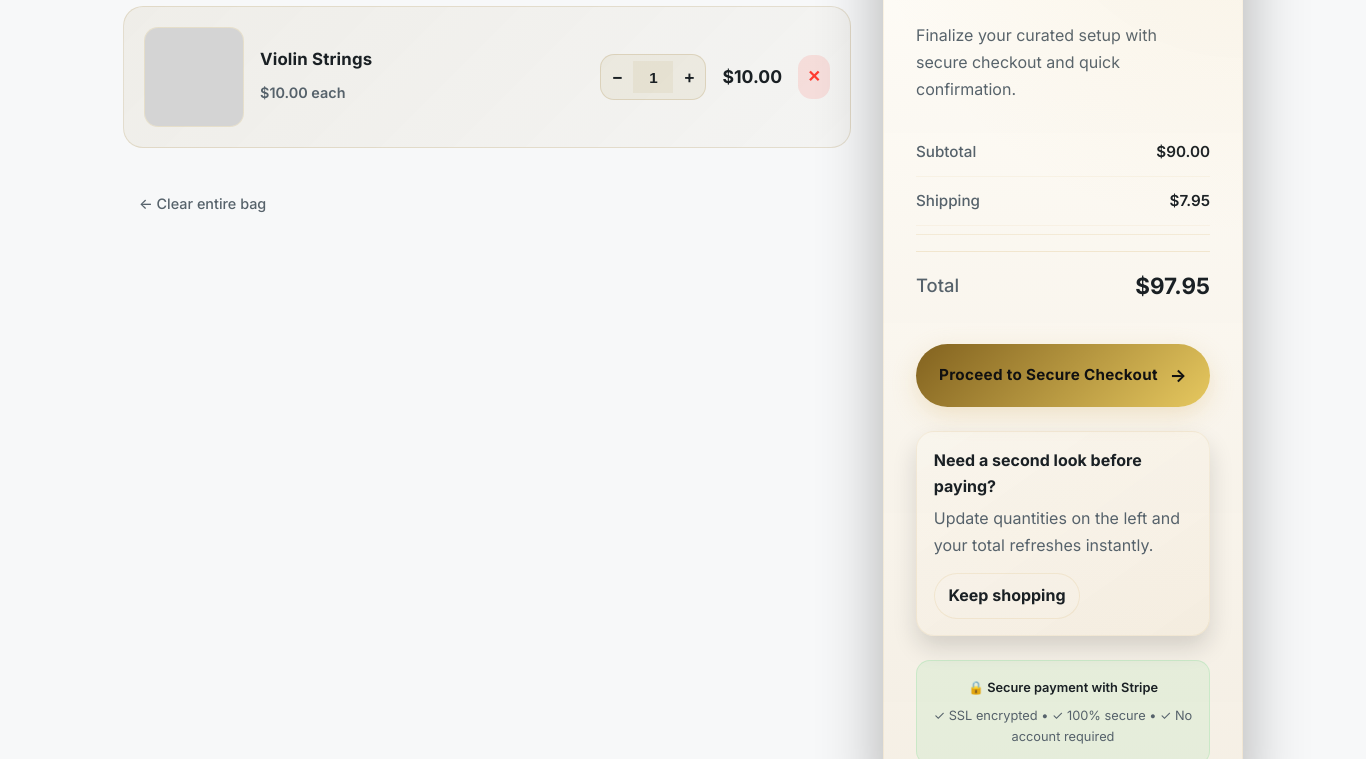
drops a product hidden after it was added once checkout reports it, and says so
(page scrolled)
Check: the link "Violin Strings" is shown, box [260,49,372,69]
Click the button "Proceed to Secure Checkout →".
click(1063, 376)  # box [916,344,1210,407]
(page scrolled)
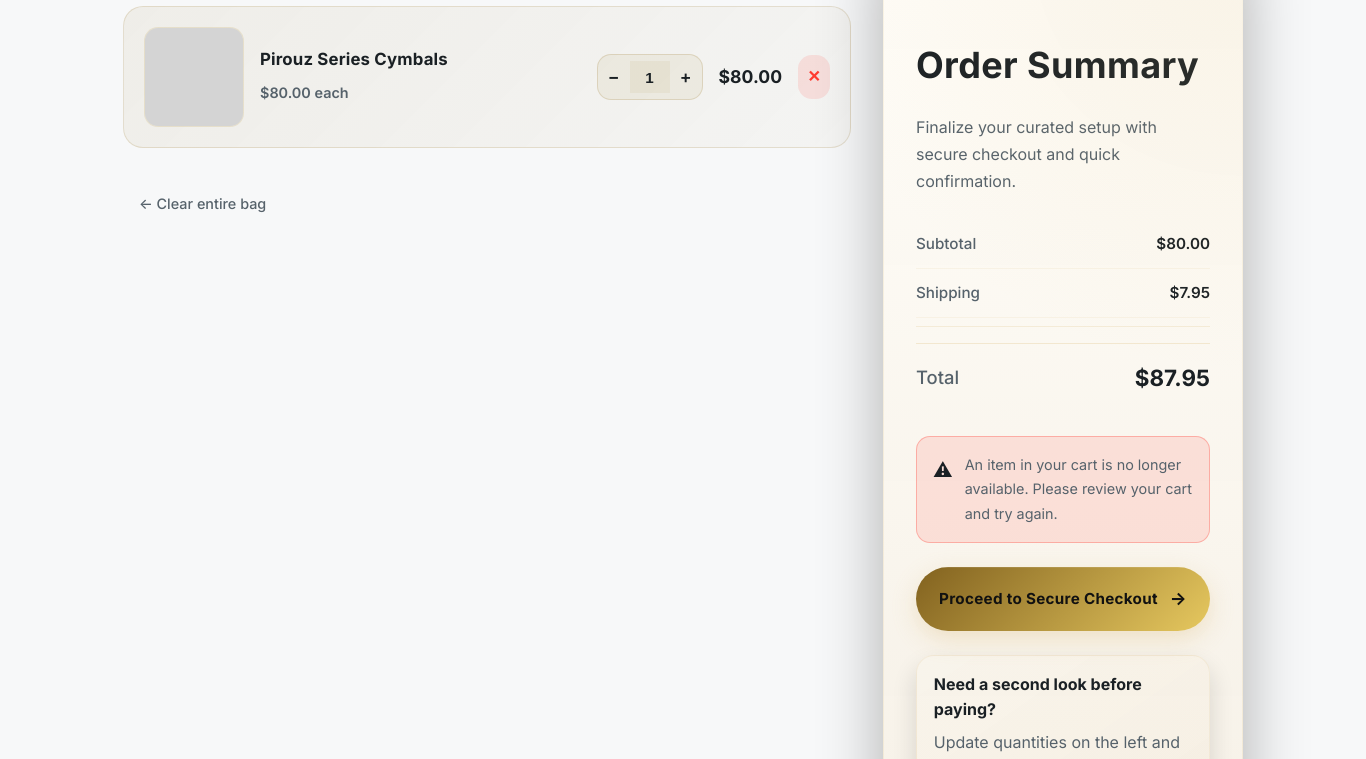
Check: the link "Violin Strings" is not shown
Check: the message shows "An item in your cart is no longer available. Please review your cart and try again.", box [965,456,1192,522]
